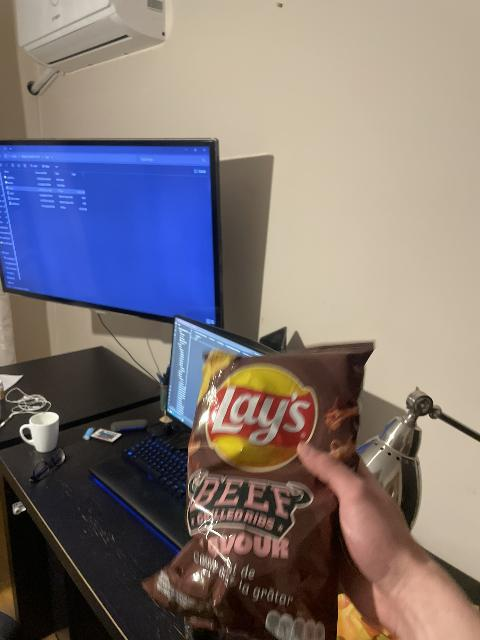Lays Beef Grilled Ribs 125g: (145, 341, 370, 636)
